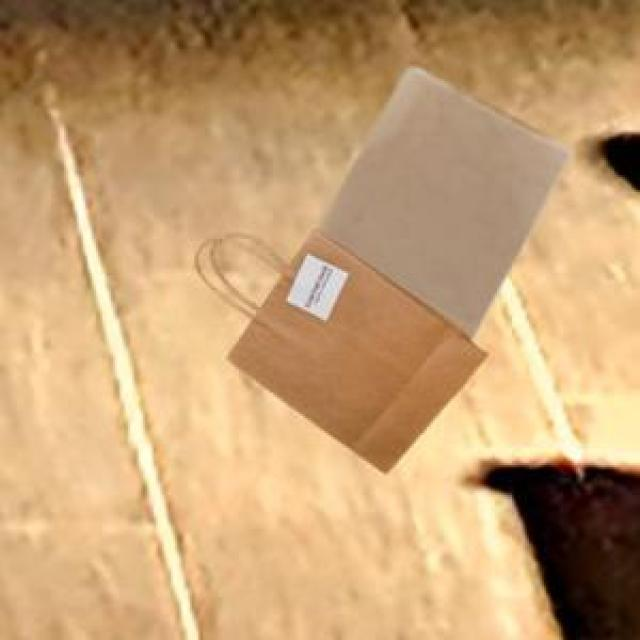paper: (316, 64, 563, 335), (224, 226, 482, 469)
